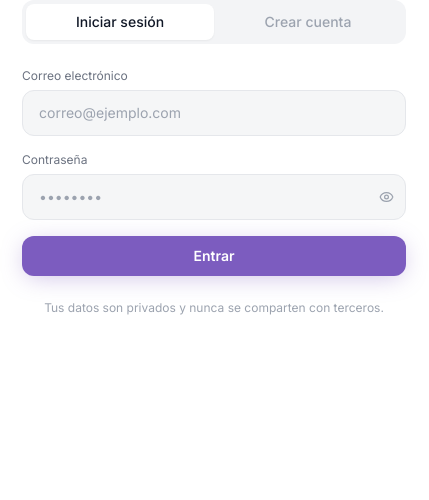
AuthModal › switches to register tab and shows name field
Click the tab "Crear cuenta".
click(308, 22)  # box [214,4,402,40]
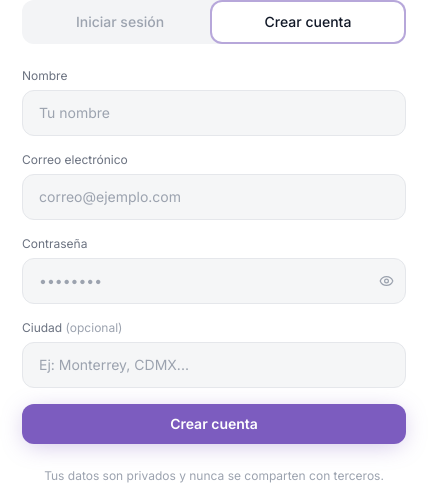
Expected: the field labelled "Nombre" is shown, [22,90,406,136]
